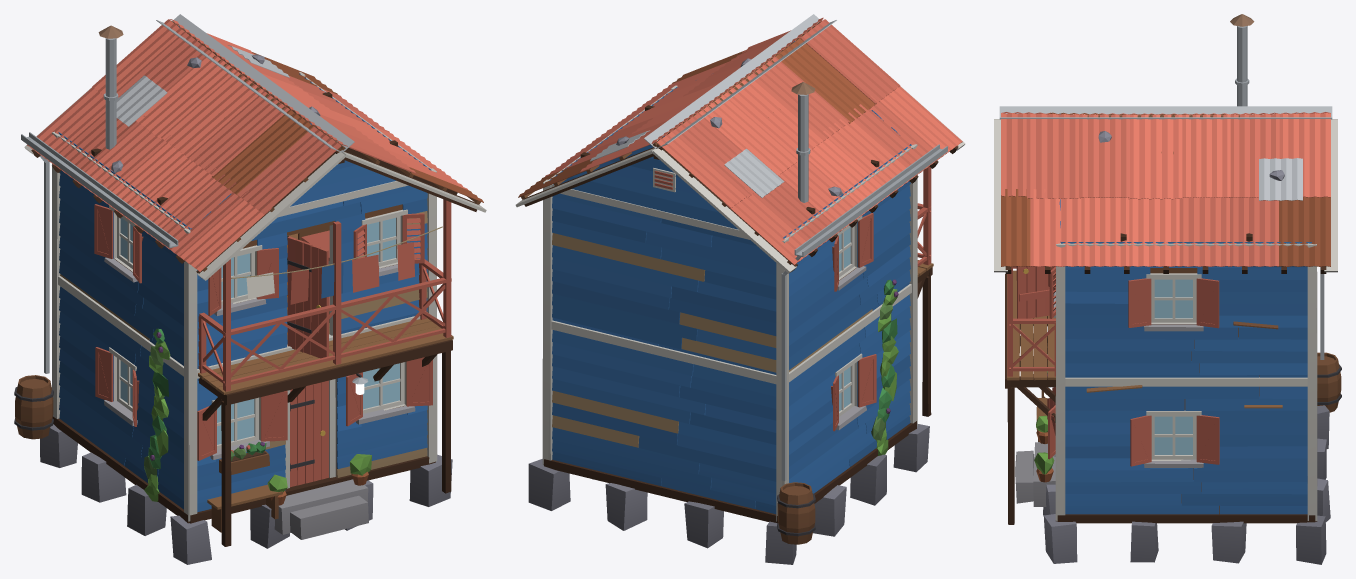
3 views of the same model, side by side, from view 1: azimuth 30°, elevation 25°; view 2: azimuth 150°, elevation 25°; view 3: azimuth 270°, elevation 25° (orthographic). The views are drawn at different scales.
Parts seen in each view (by area): view 1: H07_WALL_S, H07_ROOF, H07_WALL_W, H07_BASE, H07_DOOR_main, H07_FLOOR2; view 2: H07_WALL_N, H07_ROOF, H07_WALL_W, H07_BASE, H07_WALL_S, H07_WALL_E; view 3: H07_WALL_E, H07_ROOF, H07_BASE, H07_WALL_S, H07_WALL_W, H07_WALL_N.
Part boxes in pixels (<box>): H07_WALL_S: <box>189,120,453,546</box>; H07_ROOF: <box>24,14,486,280</box>; H07_WALL_W: <box>14,132,190,521</box>; H07_BASE: <box>40,416,452,564</box>; H07_DOOR_main: <box>290,380,328,487</box>; H07_FLOOR2: <box>287,225,329,339</box>; H07_WALL_N: <box>542,133,784,521</box>; H07_ROOF: <box>515,14,965,273</box>; H07_WALL_W: <box>776,144,947,544</box>; H07_BASE: <box>528,421,929,564</box>; H07_WALL_S: <box>671,41,933,423</box>; H07_WALL_E: <box>543,85,677,460</box>; H07_WALL_E: <box>1056,242,1316,520</box>; H07_ROOF: <box>994,14,1337,273</box>; H07_BASE: <box>1015,405,1330,564</box>; H07_WALL_S: <box>1005,113,1069,524</box>; H07_WALL_W: <box>1317,267,1341,412</box>; H07_WALL_N: <box>1307,243,1317,520</box>.
Size of the model in its own units: 5.24 by 7.72 by 5.53.
